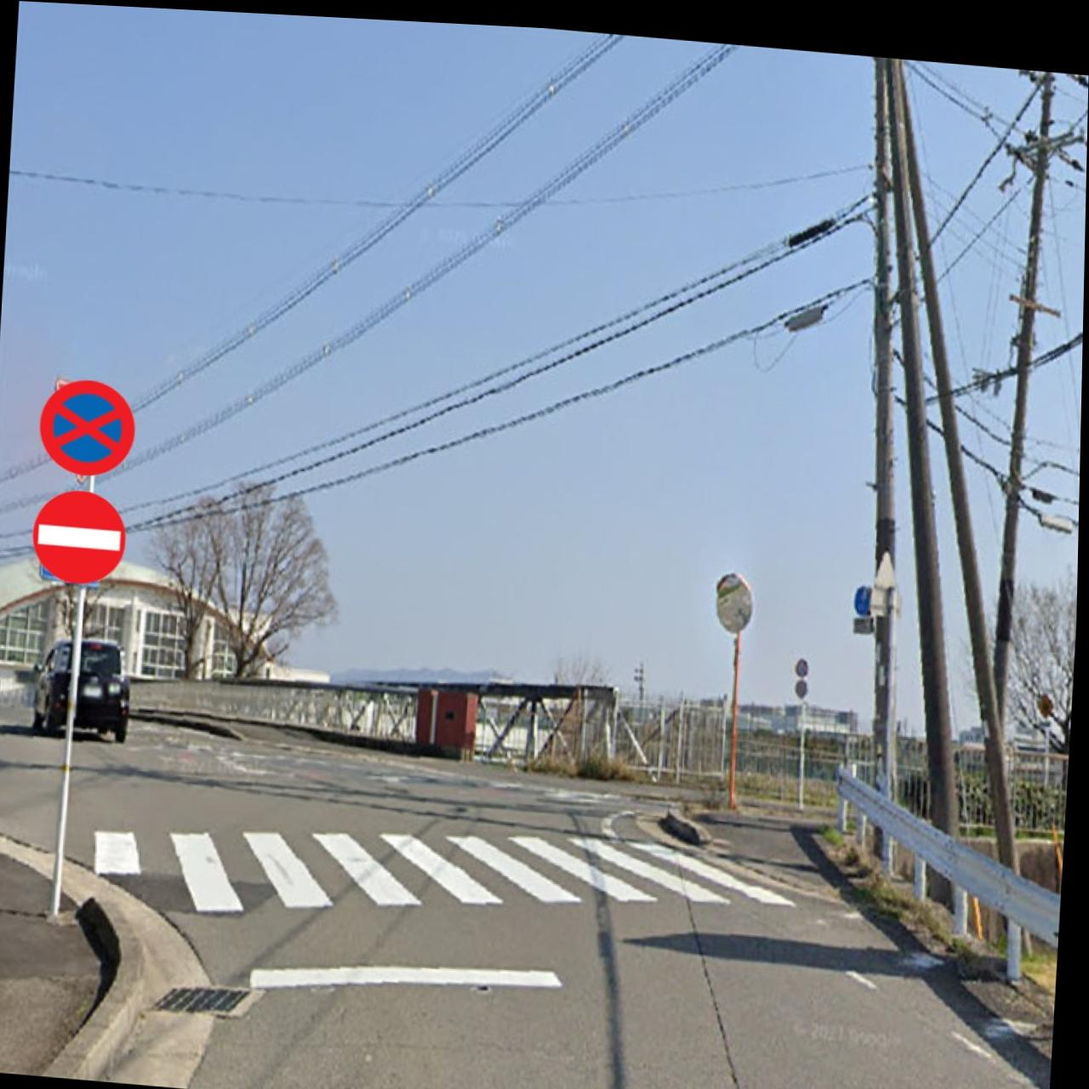barrier: (31, 485, 132, 586)
stop_sign: (39, 373, 136, 476)
